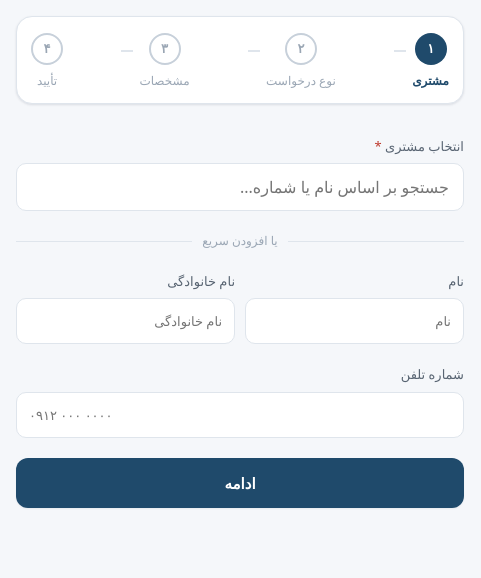
Scenario: RequestWizardScreen › validates step 1 — quick-add requires name + phone
Type "علی" into the field with placeholder "نام" at (354, 322), box left=245, top=298, right=464, bottom=344
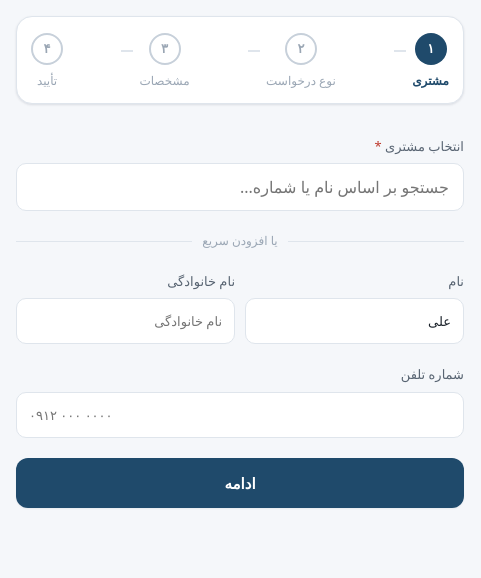
// no last name or phone entered
Click the button "ادامه" at (240, 483), box left=16, top=458, right=464, bottom=508
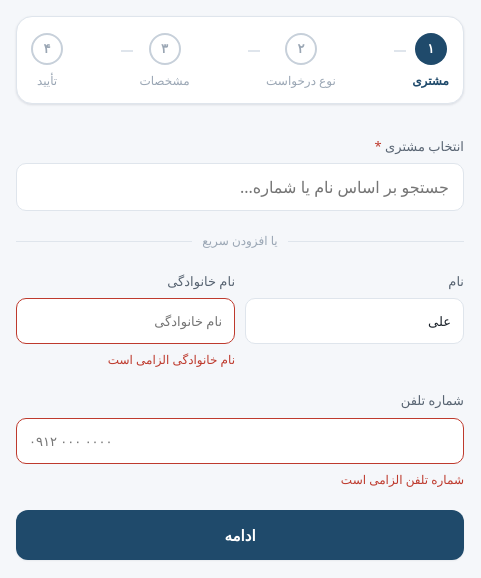
Check: the text "نام خانوادگی الزامی است" is shown, box left=108, top=352, right=235, bottom=368
Check: the text "شماره تلفن الزامی است" is shown, box left=341, top=471, right=464, bottom=488
